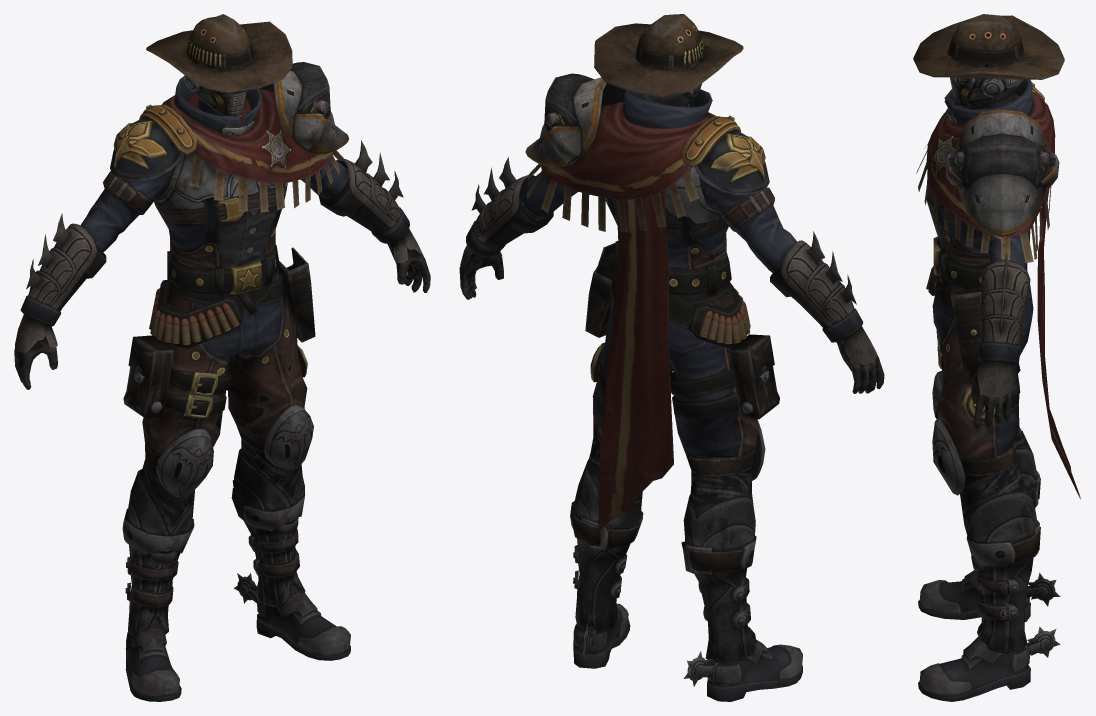
The model's file is AICowboy.fbx.
The picture shows the model from 3 angles, left to right: view 1: azimuth 30°, elevation 25°; view 2: azimuth 150°, elevation 25°; view 3: azimuth 270°, elevation 25°; orthographic projection. The views are drawn at different scales.
Parts seen in each view (by area): view 1: Diaby_Cowboy; view 2: Diaby_Cowboy; view 3: Diaby_Cowboy.
Part boxes in pixels (bbox=[...]): Diaby_Cowboy: bbox=[14, 14, 430, 701]; Diaby_Cowboy: bbox=[459, 14, 884, 701]; Diaby_Cowboy: bbox=[913, 14, 1080, 701].
Bounding box in the file's own units: 130 × 194 × 46.79.
Materials: 1 (1 with a texture image).
